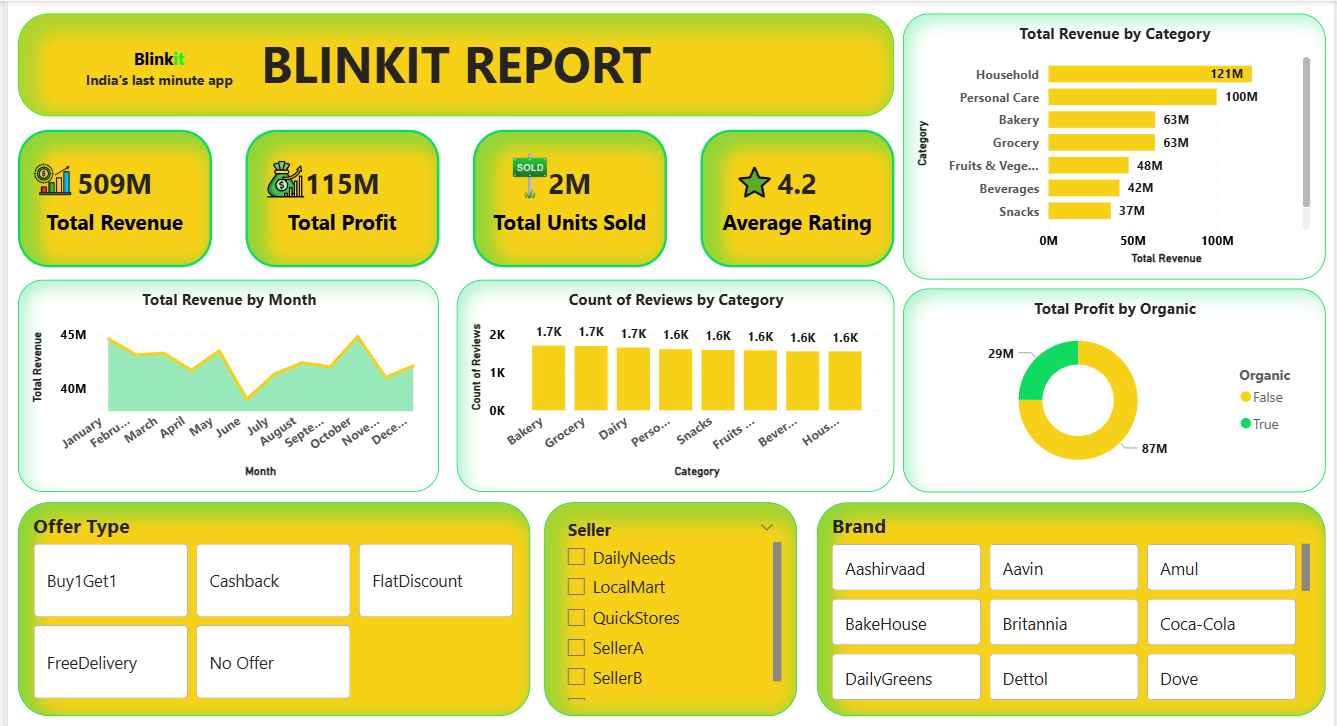

Layout of this report page (visuals, bound fields, positions):
{"tool":"powerbi","page":{"name":"Page 1","canvas":[1280,720],"ordinal":0},"visuals":[{"type":"card","fields":{"Values":["Staging.Average Rating"]},"box":[668.4,124.3,187,132.7],"z":0},{"type":"card","fields":{"Values":["Staging.Total Profit"]},"box":[229.2,124.3,187,132.7],"z":1000},{"type":"card","fields":{"Values":["Staging.Total Revenue"]},"box":[9.7,124.3,187,132.7],"z":2000},{"type":"card","fields":{"Values":["Staging.Total Units Sold"]},"box":[448.8,124.3,187,132.7],"z":3000},{"type":"image","box":[698.5,159.3,43.4,31.4],"z":4000},{"type":"image","box":[18.1,153.2,49.5,37.4],"z":5000},{"type":"image","box":[240.1,153.2,55.5,37.4],"z":6000},{"type":"image","box":[474.1,147.2,59.1,43.4],"z":7000},{"type":"lineChart","fields":{"Category":["Staging.Date Added.Variation.Date Hierarchy.Month"],"Y":["Staging.Total Revenue"]},"box":[9.7,269,406.6,205.1],"z":8000},{"type":"clusteredBarChart","fields":{"Category":["Staging.Category"],"Y":["Staging.Total Revenue"]},"box":[863.8,12.1,407.8,257],"z":9000},{"type":"donutChart","fields":{"Category":["Staging.Organic"],"Y":["Staging.Total Profit"]},"box":[863.8,277.5,407.8,196.6],"z":10000},{"type":"columnChart","fields":{"Category":["Staging.Category"],"Y":["CountNonNull(Staging.Reviews)"]},"box":[433.1,269,422.3,205.1],"z":11000},{"type":"advancedSlicerVisual","fields":{"Values":["Staging.Offer Type"]},"box":[9.7,483.8,494.6,206.3],"z":12000},{"type":"advancedSlicerVisual","fields":{"Values":["Staging.Brand"]},"box":[780.6,483.8,491,206.3],"z":12002},{"type":"slicer","fields":{"Values":["Staging.Seller"]},"box":[517.6,483.8,243.7,206.3],"z":12003},{"type":"textbox","box":[9.7,12.1,845.7,98.9],"z":12004},{"type":"textbox","box":[43.4,39.8,205.1,57.9],"z":12005}]}

Visuals, with their boxes on the page's 1280x720 design canvas (x1, y1, x2, y2). These are canvas units, not pixel positions in the 1337x726 screenshot, which may show the page scaled, cropped or inside an application window:
card - Staging.Average Rating: rect(668, 124, 855, 257)
card - Staging.Total Profit: rect(229, 124, 416, 257)
card - Staging.Total Revenue: rect(10, 124, 197, 257)
card - Staging.Total Units Sold: rect(449, 124, 636, 257)
image: rect(698, 159, 742, 191)
image: rect(18, 153, 68, 191)
image: rect(240, 153, 296, 191)
image: rect(474, 147, 533, 191)
lineChart - Staging.Date Added.Variation.Date Hierarchy.Month x Staging.Total Revenue: rect(10, 269, 416, 474)
clusteredBarChart - Staging.Category x Staging.Total Revenue: rect(864, 12, 1272, 269)
donutChart - Staging.Organic x Staging.Total Profit: rect(864, 278, 1272, 474)
columnChart - Staging.Category x CountNonNull(Staging.Reviews): rect(433, 269, 855, 474)
advancedSlicerVisual - Staging.Offer Type: rect(10, 484, 504, 690)
advancedSlicerVisual - Staging.Brand: rect(781, 484, 1272, 690)
slicer - Staging.Seller: rect(518, 484, 761, 690)
textbox: rect(10, 12, 855, 111)
textbox: rect(43, 40, 248, 98)
